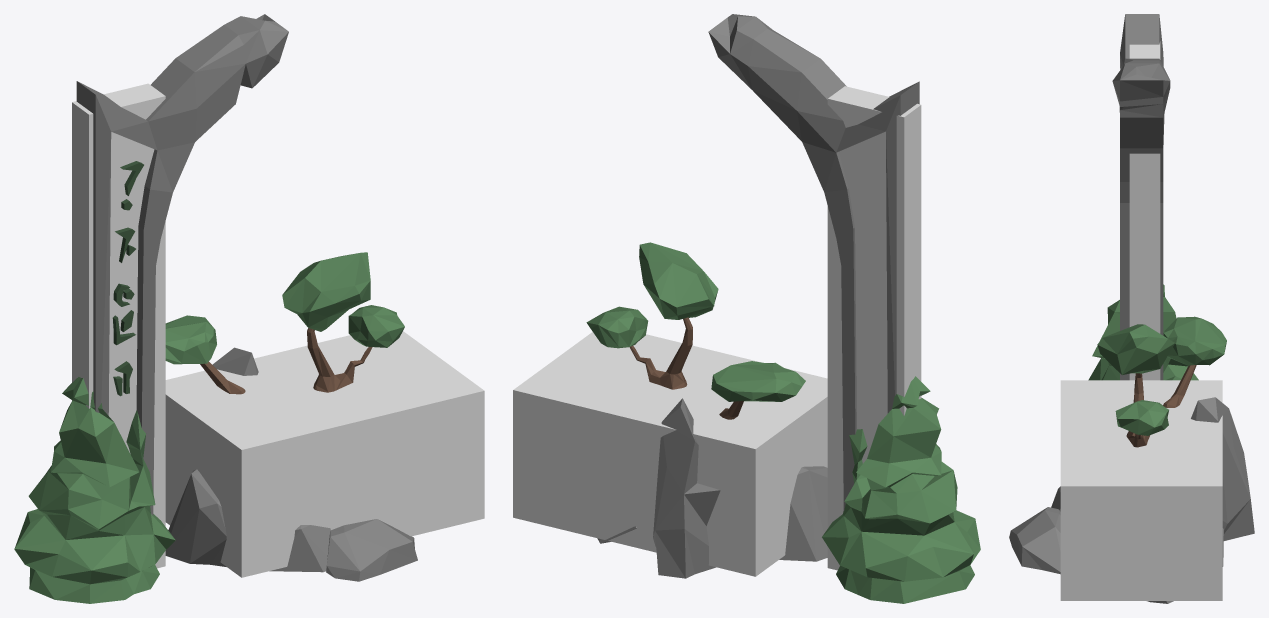
Rendered from elf_sculpture_rune_totem.glb.
3 views of the same model, side by side, from view 1: azimuth 30°, elevation 25°; view 2: azimuth 150°, elevation 25°; view 3: azimuth 270°, elevation 25° (orthographic). The views are drawn at different scales.
Parts seen in each view (by area): view 1: sculpture_8, Cube.001, Cube.003; view 2: sculpture_8, Cube.001, Cube.003; view 3: Cube.001, sculpture_8, Cube.003.
Part boxes in pixels (bbox=[...]): sculpture_8: bbox=[14, 14, 417, 603]; Cube.001: bbox=[165, 331, 484, 577]; Cube.003: bbox=[72, 83, 165, 568]; sculpture_8: bbox=[586, 14, 980, 603]; Cube.001: bbox=[513, 332, 827, 576]; Cube.003: bbox=[827, 86, 921, 570]; Cube.001: bbox=[1060, 380, 1222, 600]; sculpture_8: bbox=[1009, 14, 1254, 603]; Cube.003: bbox=[1129, 41, 1160, 380].
Bounding box in the file's own units: 2.9 × 3.41 × 1.64.
Materials: 1 (1 with a texture image).
